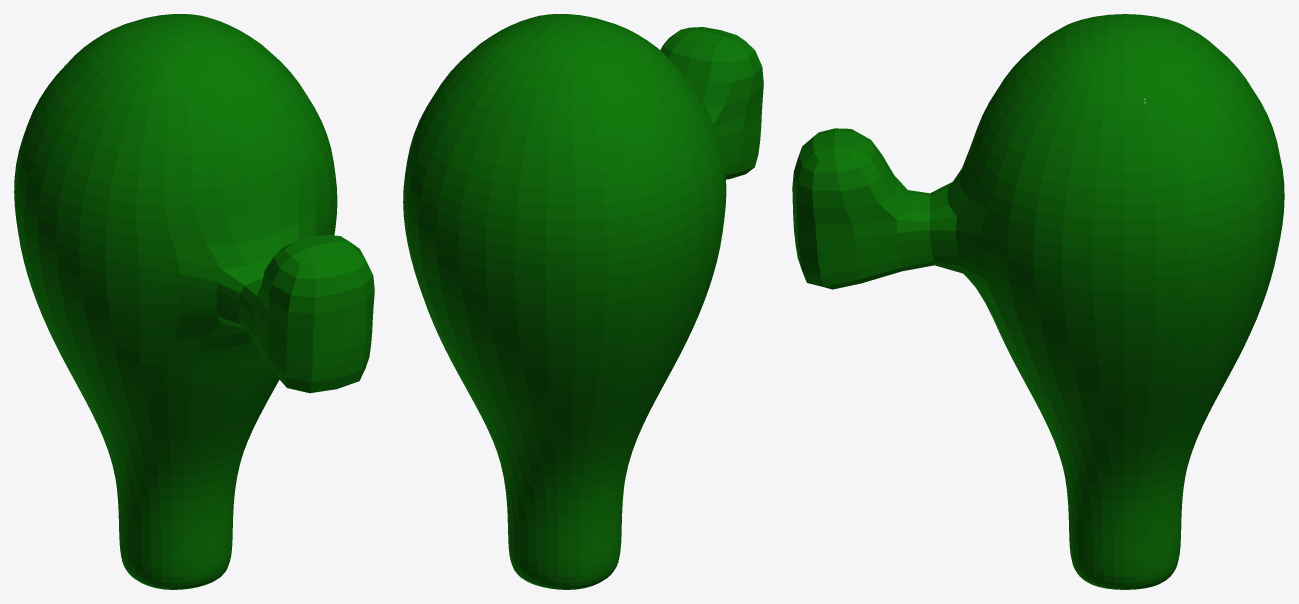
Rendered from cacti2.obj.
3 renders of one model, left to right at view 1: azimuth 30°, elevation 25°; view 2: azimuth 150°, elevation 25°; view 3: azimuth 270°, elevation 25°, orthographic.
Parts seen in each view (by area): view 1: Cube; view 2: Cube; view 3: Cube.
Boxes of the visible parts, x1,y1,x2,y2 form: Cube: (14,14,374,589); Cube: (403,14,763,589); Cube: (792,14,1284,589).
Bounding box in the file's own units: 1.15 × 2.17 × 1.77.
1 material, 1 textured.
